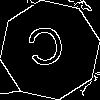C: (25, 25, 68, 77)
